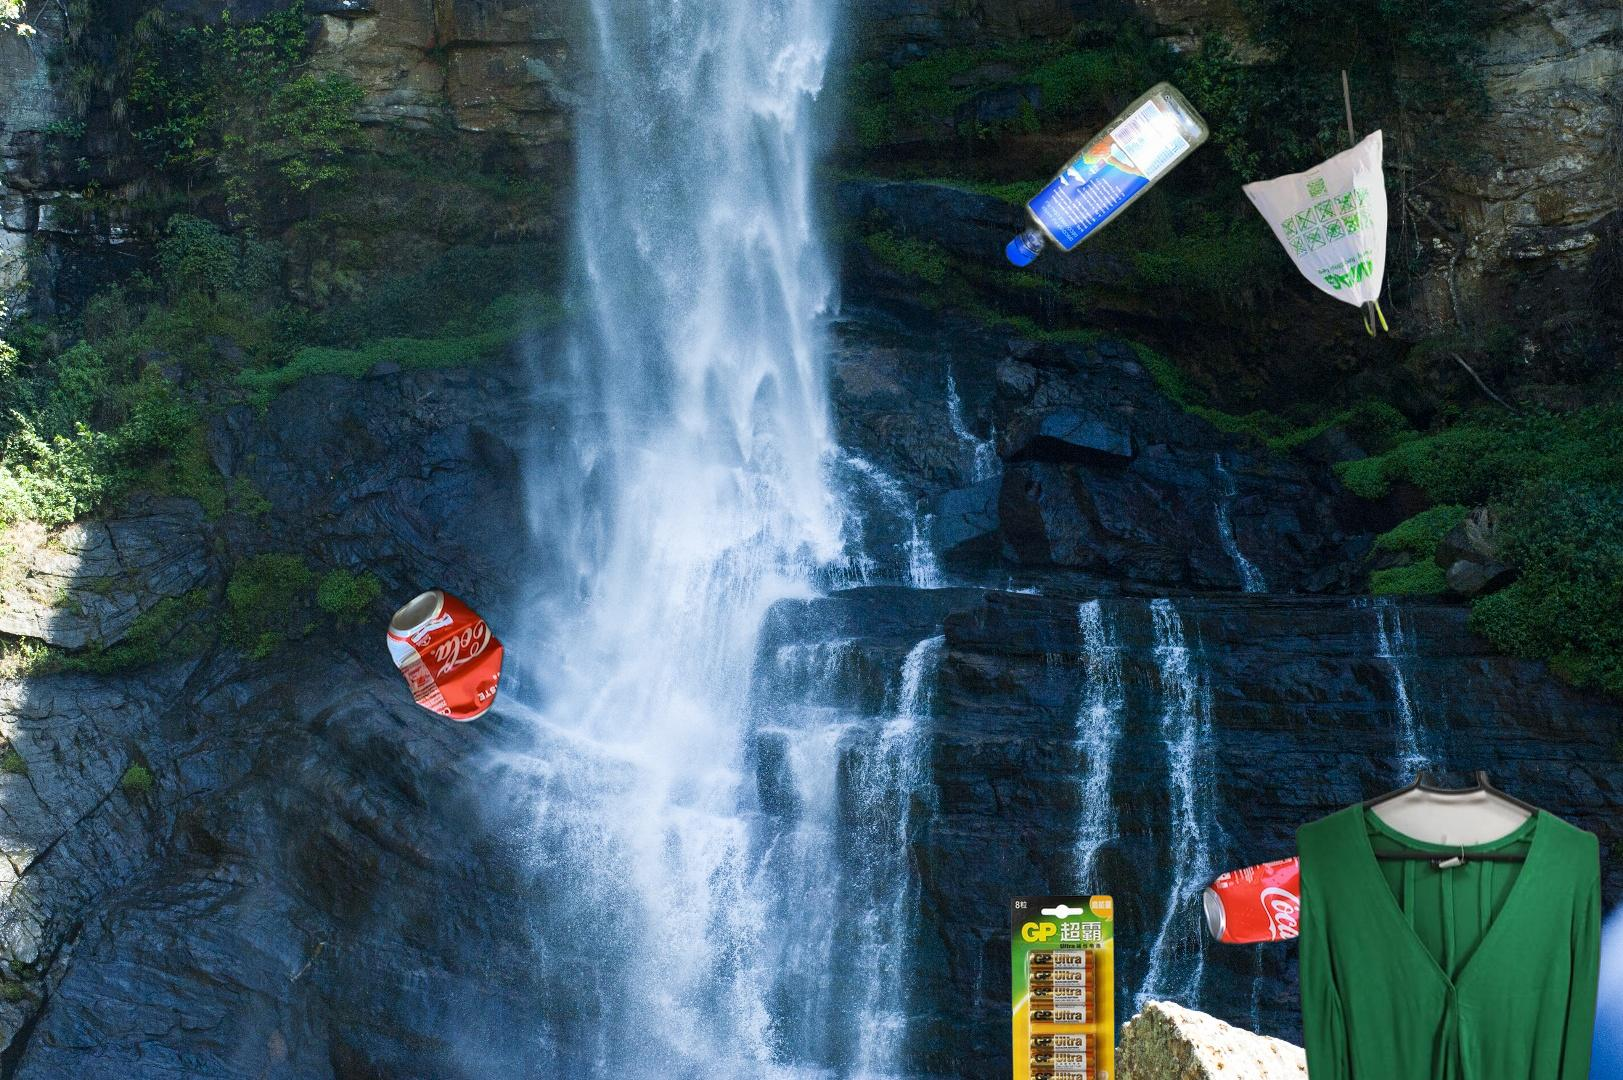battery: (1009, 892, 1118, 1080)
clothes: (1293, 771, 1606, 1080)
metal-cans: (941, 601, 1453, 1080), (382, 582, 508, 729)
plastic-bag: (1237, 70, 1394, 356)
plastic-bottles: (1001, 75, 1216, 274)
